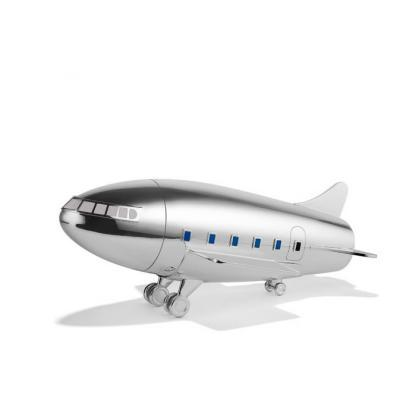CIV_Plane: (55, 170, 380, 328)
